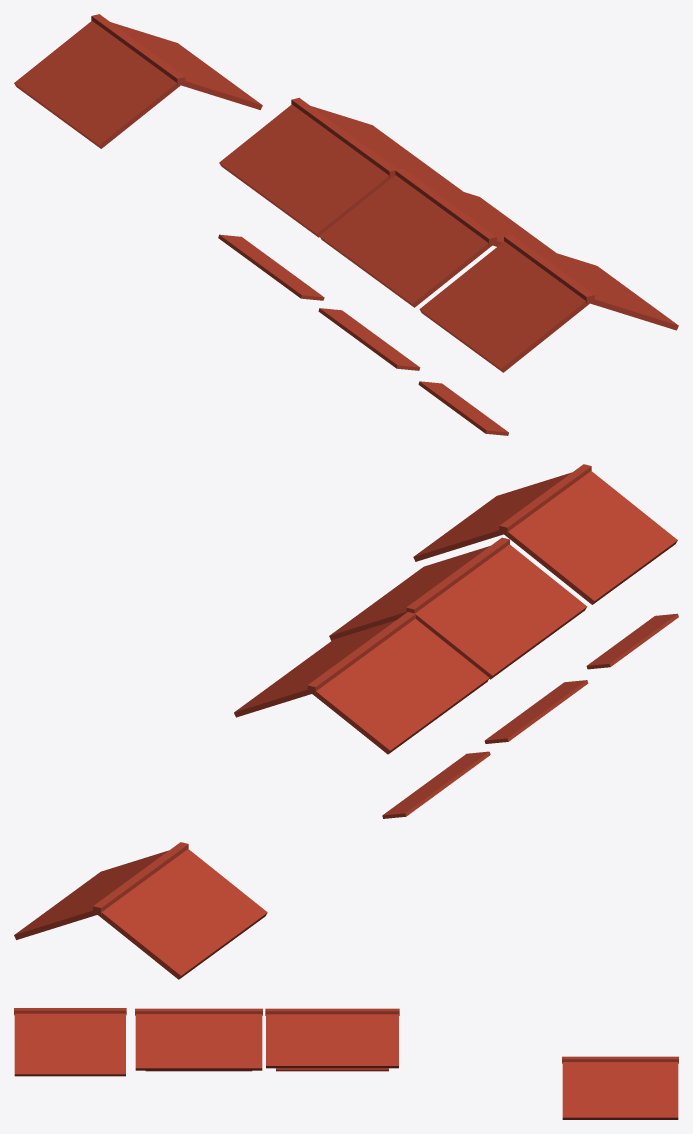
The model's file is HouseRoofsW_RoofRed.fbx.
3 views of the same model, one above another, from view 1: azimuth 30°, elevation 25°; view 2: azimuth 150°, elevation 25°; view 3: azimuth 270°, elevation 25° (orthographic). The views are drawn at different scales.
Parts seen in each view (by area): view 1: RoofW4_-1.001; view 2: RoofW4_-1.001; view 3: RoofW4_-1.001.
Part boxes in pixels (x1,y1,x2,y2): RoofW4_-1.001: (14,14,678,435); RoofW4_-1.001: (14,464,678,979); RoofW4_-1.001: (14,1008,678,1119).
Bounding box in the file's own units: 2345 × 1533 × 10651.
